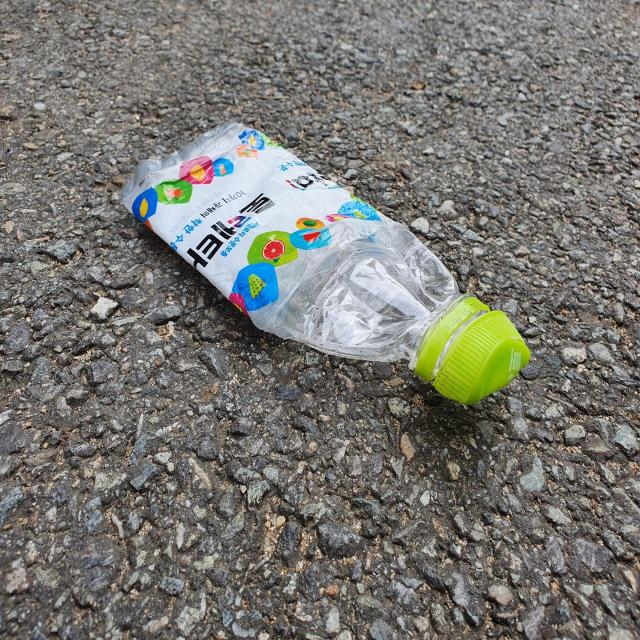plastic: (121, 122, 531, 404)
